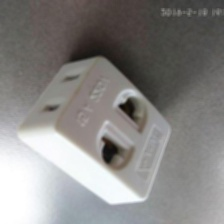three_eye_plug: (15, 53, 173, 205)
